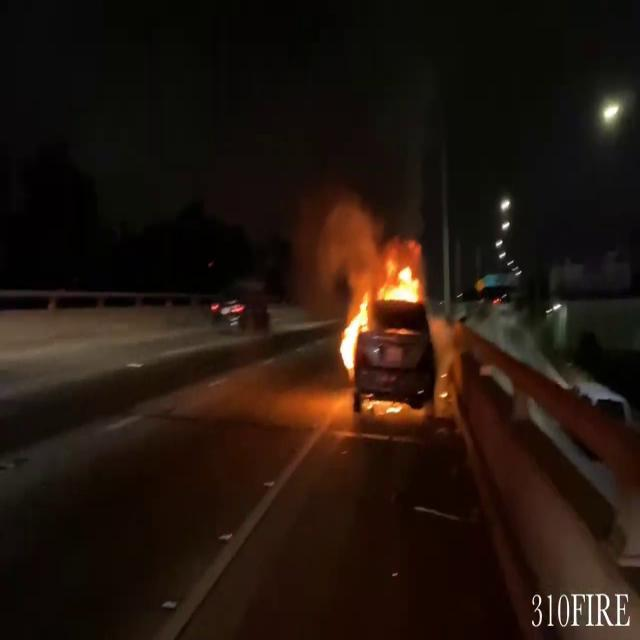Fire: (333, 288, 371, 376), (380, 252, 428, 311)
Smoke: (286, 174, 392, 296)
